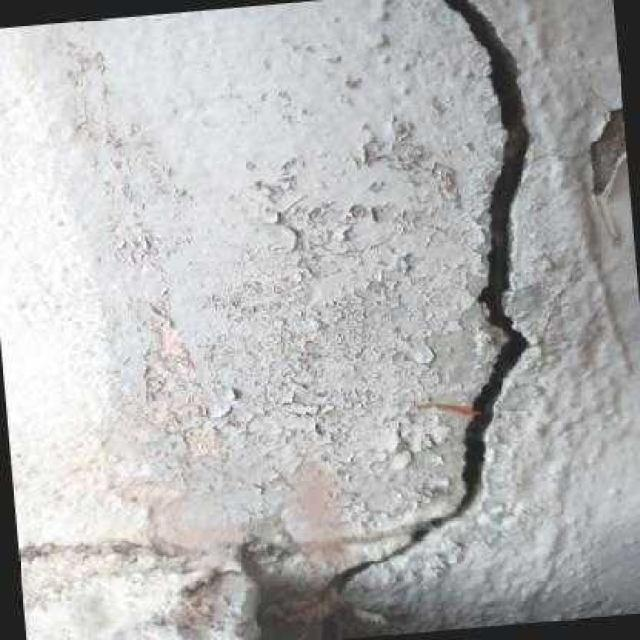D00: (326, 0, 531, 595)
